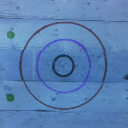Axe Tip: (125, 74, 128, 77)
